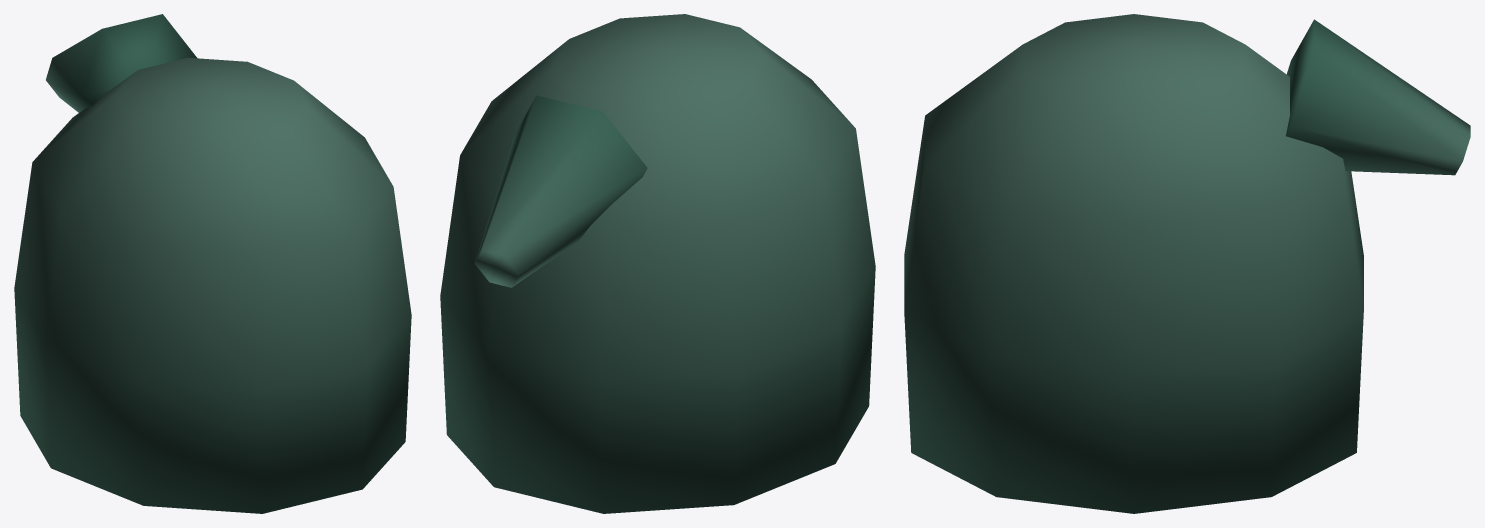
Rendered from hood_ranger.glb.
3 renders of one model, left to right at view 1: azimuth 30°, elevation 25°; view 2: azimuth 150°, elevation 25°; view 3: azimuth 270°, elevation 25°, orthographic. The views are drawn at different scales.
Visible parts, largest first — view 1: hood_ranger; view 2: hood_ranger; view 3: hood_ranger.
Boxes of the visible parts, bbox=[...] form: hood_ranger: bbox=[14, 14, 411, 513]; hood_ranger: bbox=[440, 14, 875, 513]; hood_ranger: bbox=[904, 14, 1470, 513].
Bounding box in the file's own units: 0.33 × 0.3288 × 0.4332.
